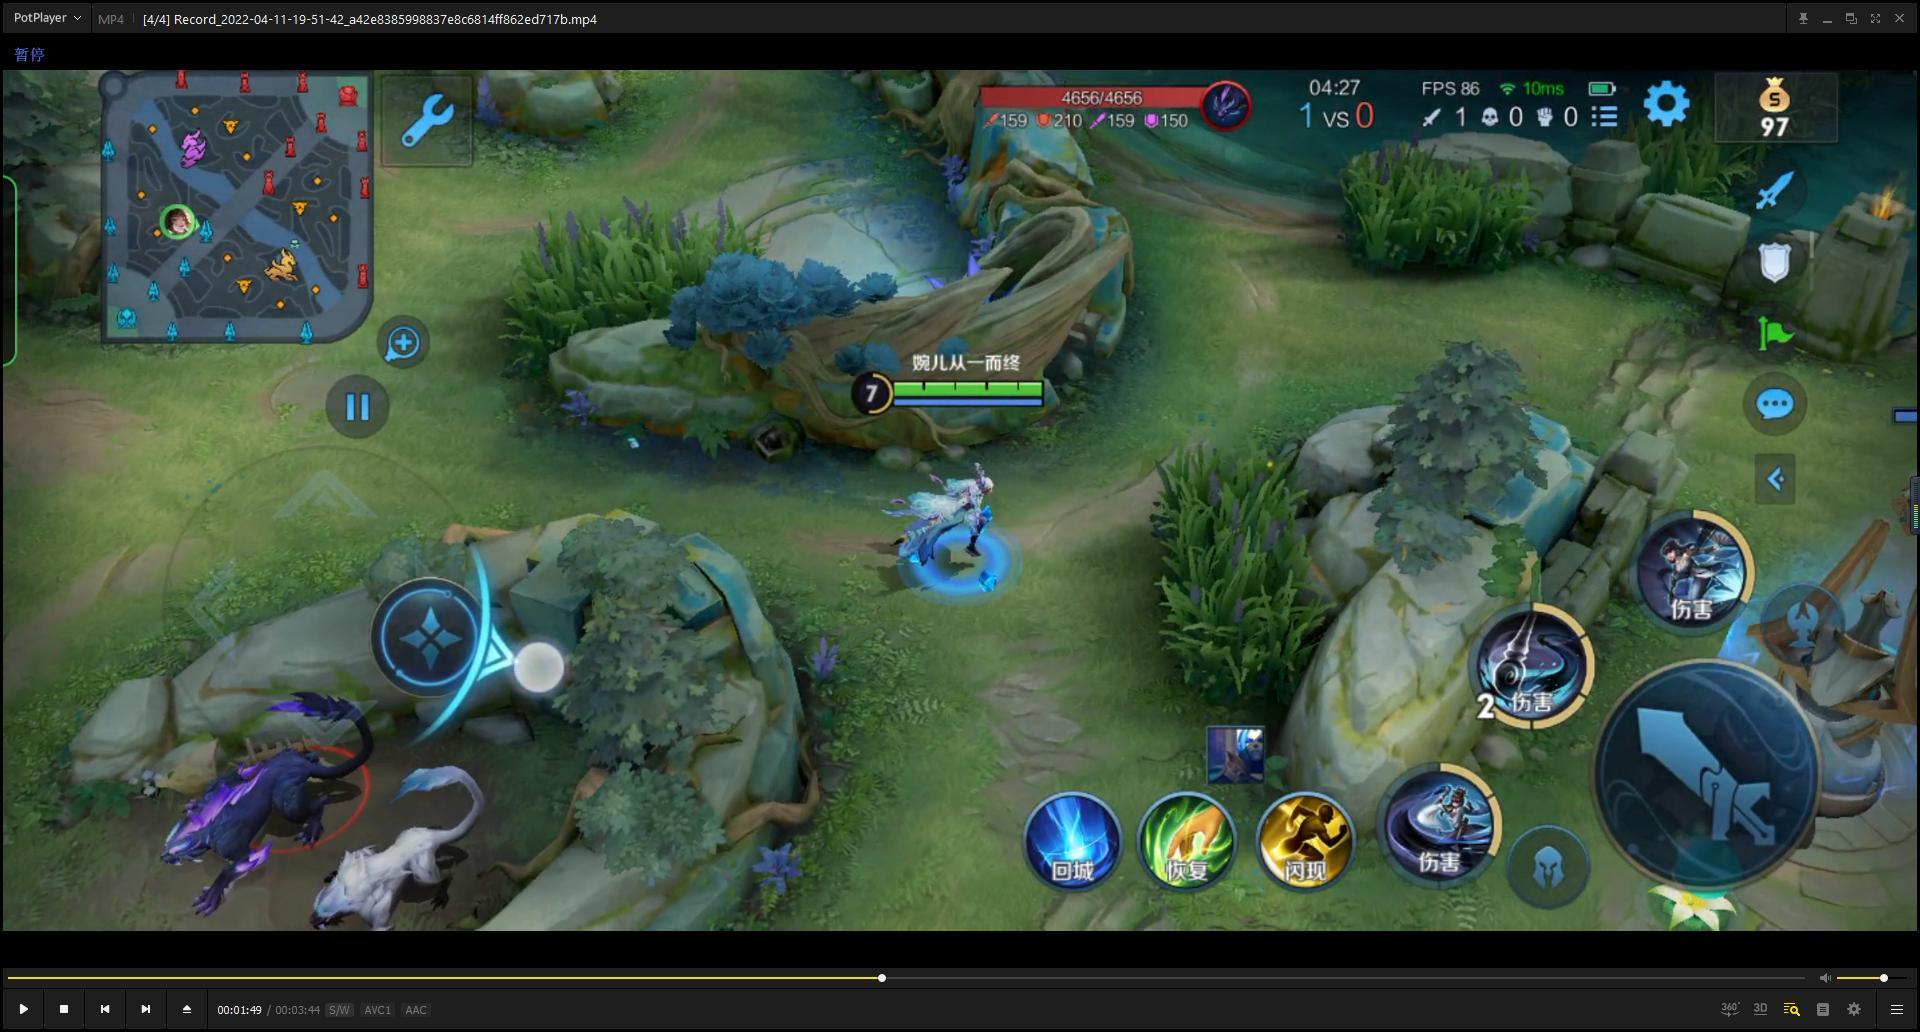Hero: (855, 446, 1025, 604)
Tower: (1714, 409, 1920, 874)
Wolf: (117, 669, 347, 914), (278, 749, 504, 928)
